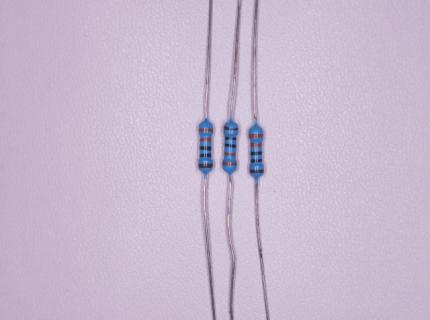Black band: (224, 143, 236, 148), (251, 158, 263, 163), (225, 136, 236, 141), (251, 151, 262, 156), (200, 146, 212, 150), (200, 153, 212, 157)
Brown band: (223, 125, 238, 131), (198, 163, 213, 168), (249, 169, 264, 173)
Orange band: (248, 133, 264, 138), (222, 161, 237, 166), (250, 142, 262, 147), (199, 128, 213, 132), (200, 137, 211, 142), (224, 152, 236, 156)
